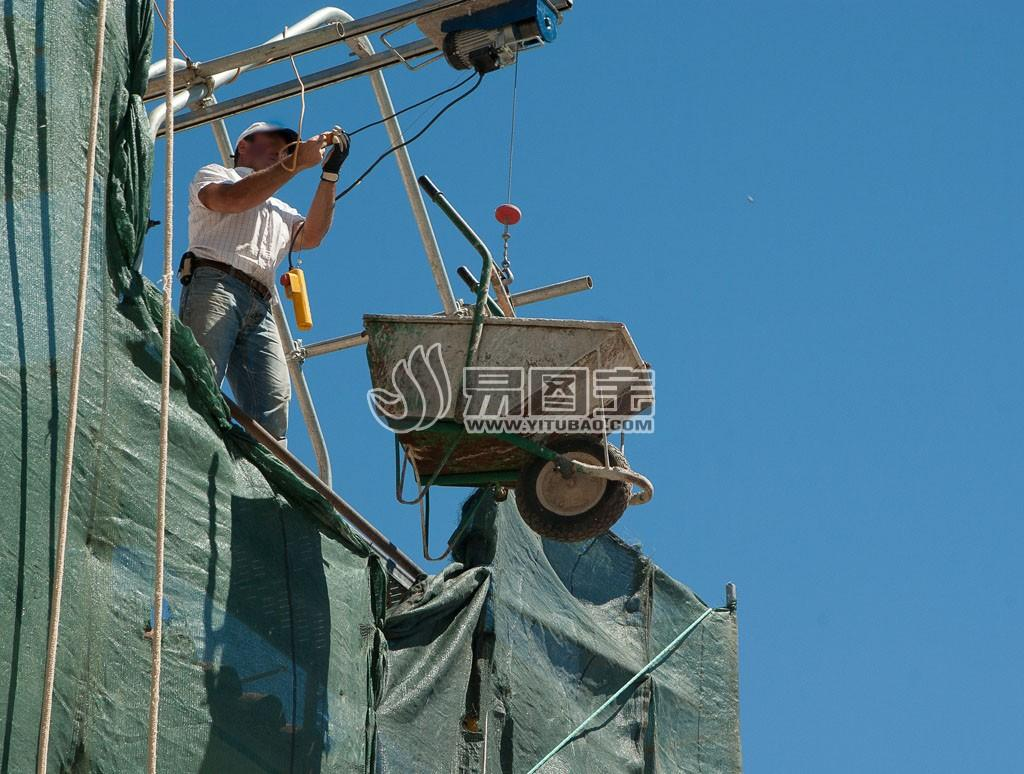helmet: (223, 113, 313, 157)
